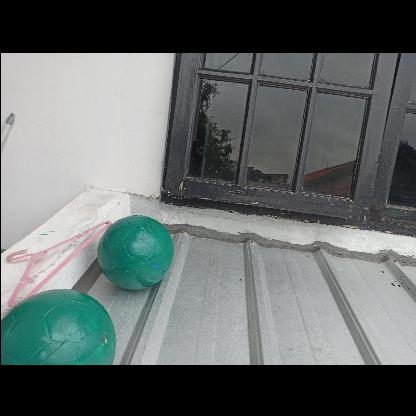green_ball: (100, 212, 174, 286)
